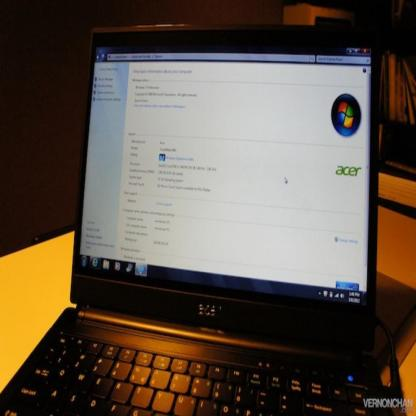board: (0, 23, 381, 413)
